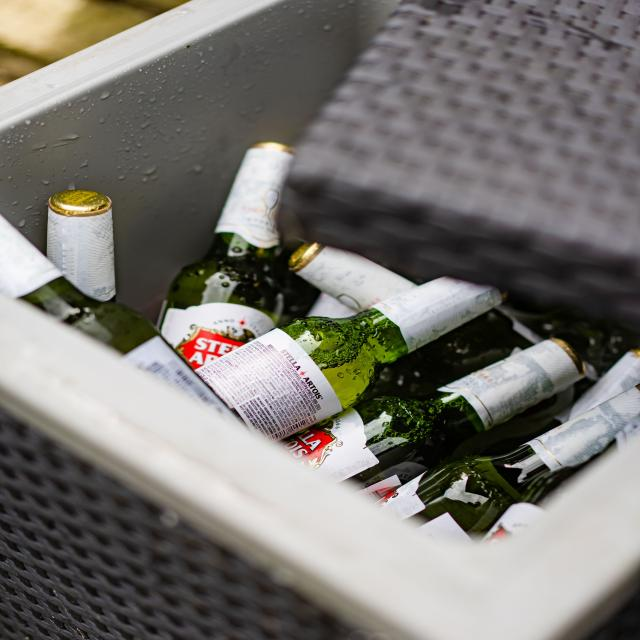Bottle: (198, 278, 501, 439), (0, 217, 235, 419), (284, 341, 583, 484), (383, 387, 639, 533), (159, 143, 293, 369), (453, 351, 639, 457), (372, 310, 542, 397), (372, 311, 542, 397), (502, 301, 639, 379), (522, 415, 639, 503), (289, 243, 416, 312), (47, 190, 115, 301), (566, 350, 639, 419), (307, 293, 353, 318)
